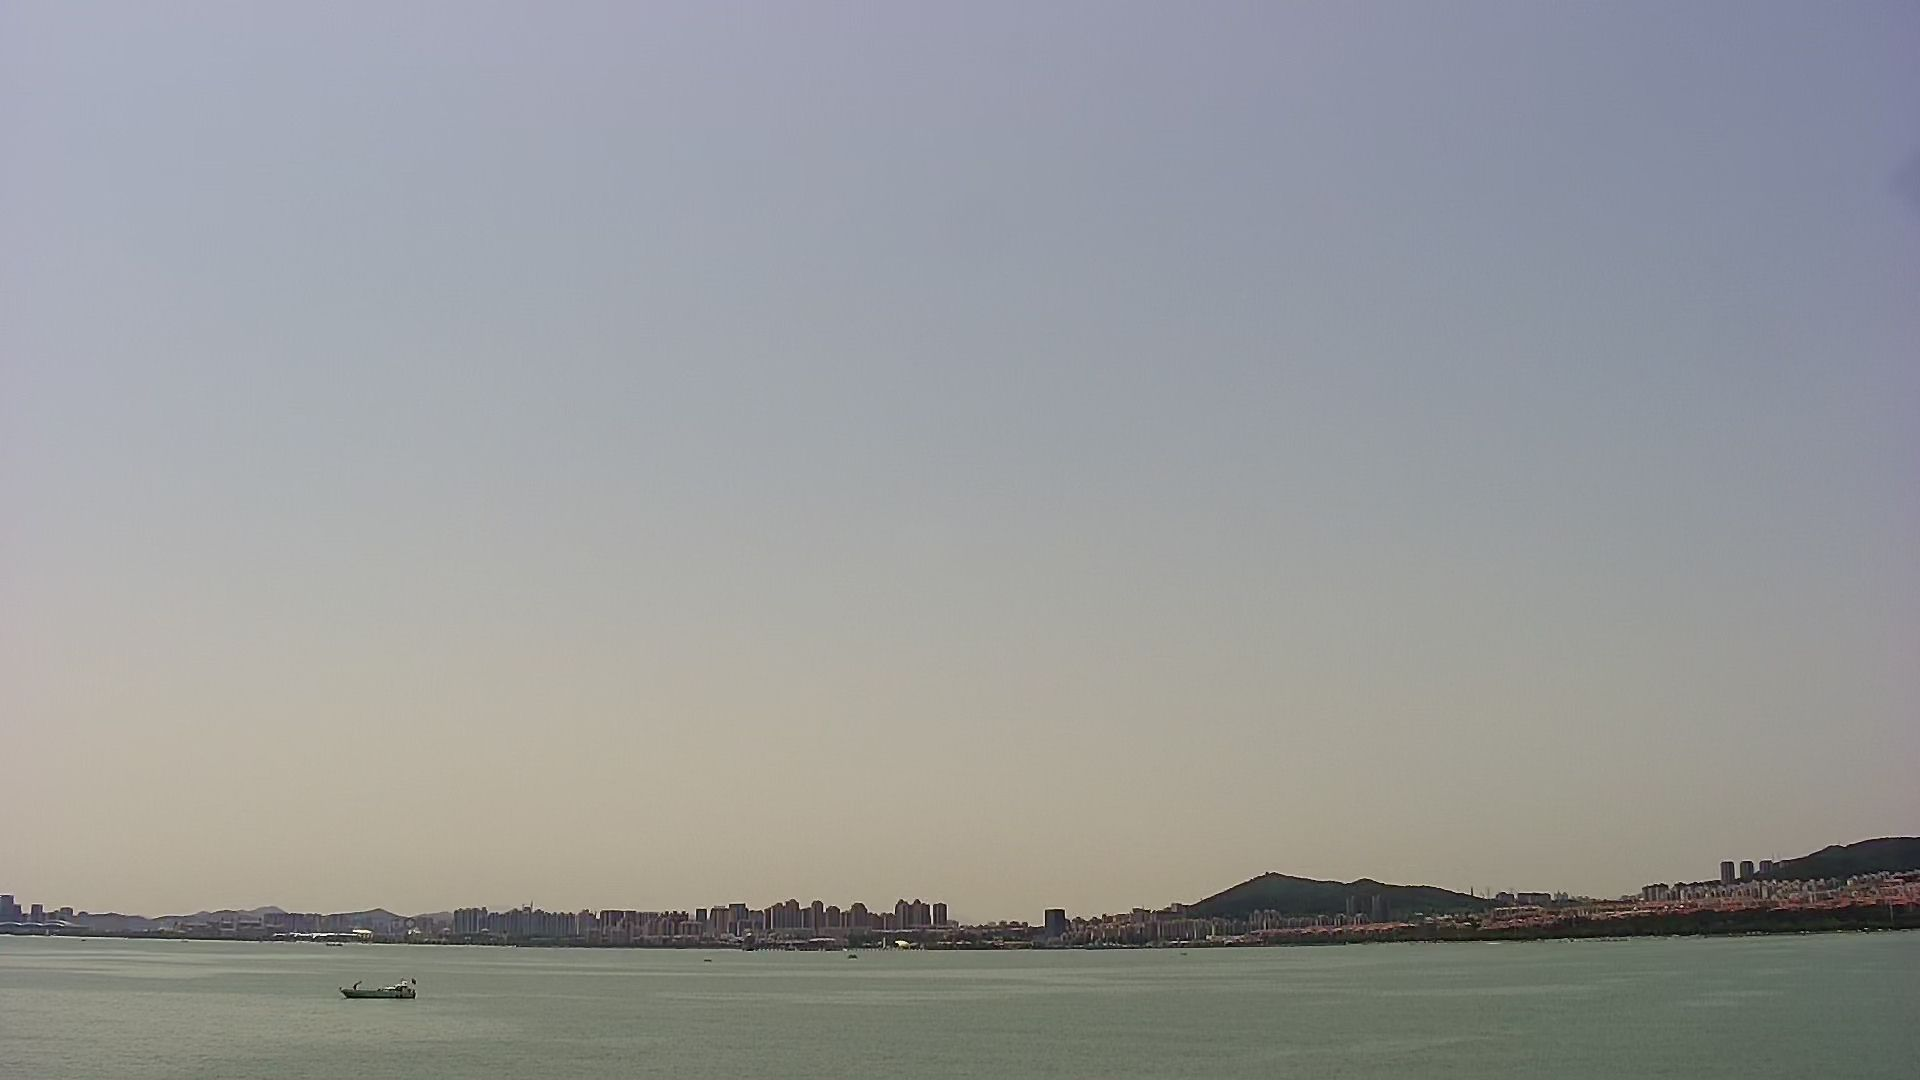boat: (334, 971, 425, 1004)
